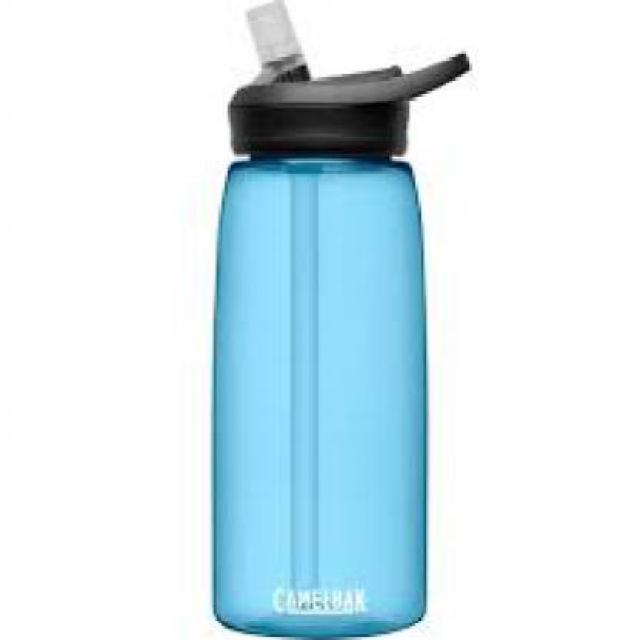Drinking: (187, 25, 464, 638)
